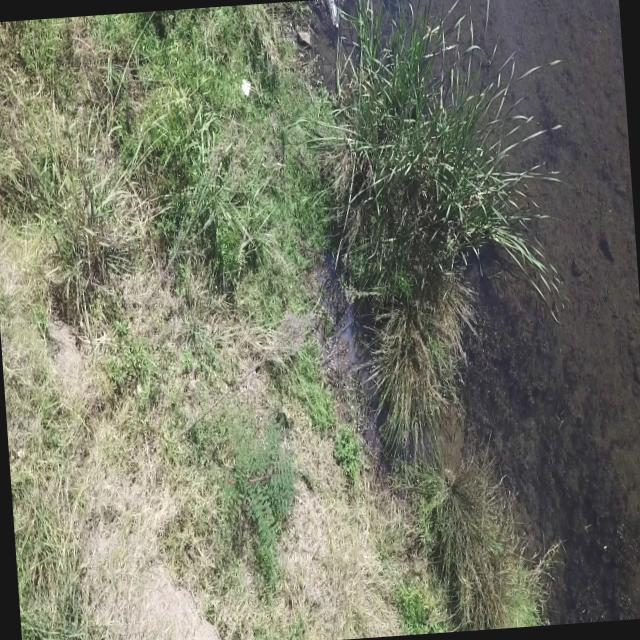Mysore-Thorn-Weed: (226, 417, 304, 552)
